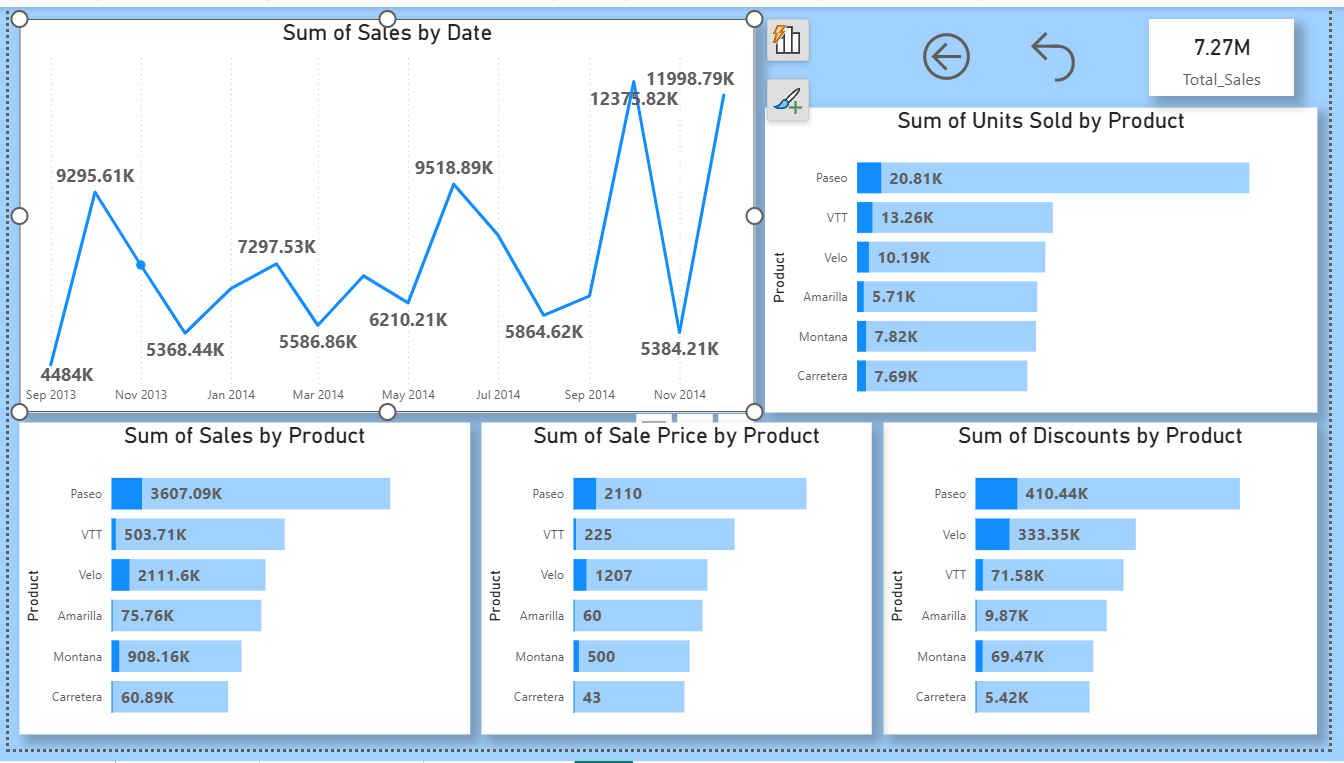

The dashboard page shown, as its layout file describes it:
{"tool":"powerbi","page":{"name":"drill through","canvas":[1280,720],"ordinal":1},"visuals":[{"type":"lineChart","fields":{"Category":["financials.Date"],"Y":["Sum(financials. Sales)"]},"box":[9.7,11.3,714.1,382.1],"z":0},{"type":"barChart","fields":{"Category":["financials.Product"],"Y":["Sum(financials. Sales)"]},"box":[9.7,403.2,437.2,302.8],"z":1},{"type":"barChart","fields":{"Category":["financials.Product"],"Y":["Sum(financials.Units Sold)"]},"box":[733.5,97.2,536,296.3],"z":2},{"type":"barChart","fields":{"Category":["financials.Product"],"Y":["Sum(financials.Discounts)"]},"box":[848.5,403.2,421,302.8],"z":3},{"type":"card","fields":{"Values":["financials.Total_Sales"]},"box":[1105.9,11.3,140.9,74.5],"z":4},{"type":"barChart","fields":{"Category":["financials.Product"],"Y":["Sum(financials.Sale Price)"]},"box":[458.2,403.2,378.9,302.8],"z":5},{"type":"actionButton","box":[880.9,19.4,79.3,58.3],"z":6},{"type":"actionButton","box":[982.9,17.8,98.8,61.5],"z":7}]}

Visuals, with their boxes in screenshot pixels (x1, y1, x2, y2), scaled from the page's 1280x720 canvas onto the 1344x763 screenshot:
lineChart - financials.Date x Sum(financials. Sales): select_region(10, 12, 760, 417)
barChart - financials.Product x Sum(financials. Sales): select_region(10, 427, 469, 748)
barChart - financials.Product x Sum(financials.Units Sold): select_region(770, 103, 1333, 417)
barChart - financials.Product x Sum(financials.Discounts): select_region(891, 427, 1333, 748)
card - financials.Total_Sales: select_region(1161, 12, 1309, 91)
barChart - financials.Product x Sum(financials.Sale Price): select_region(481, 427, 879, 748)
actionButton: select_region(925, 21, 1008, 82)
actionButton: select_region(1032, 19, 1136, 84)
